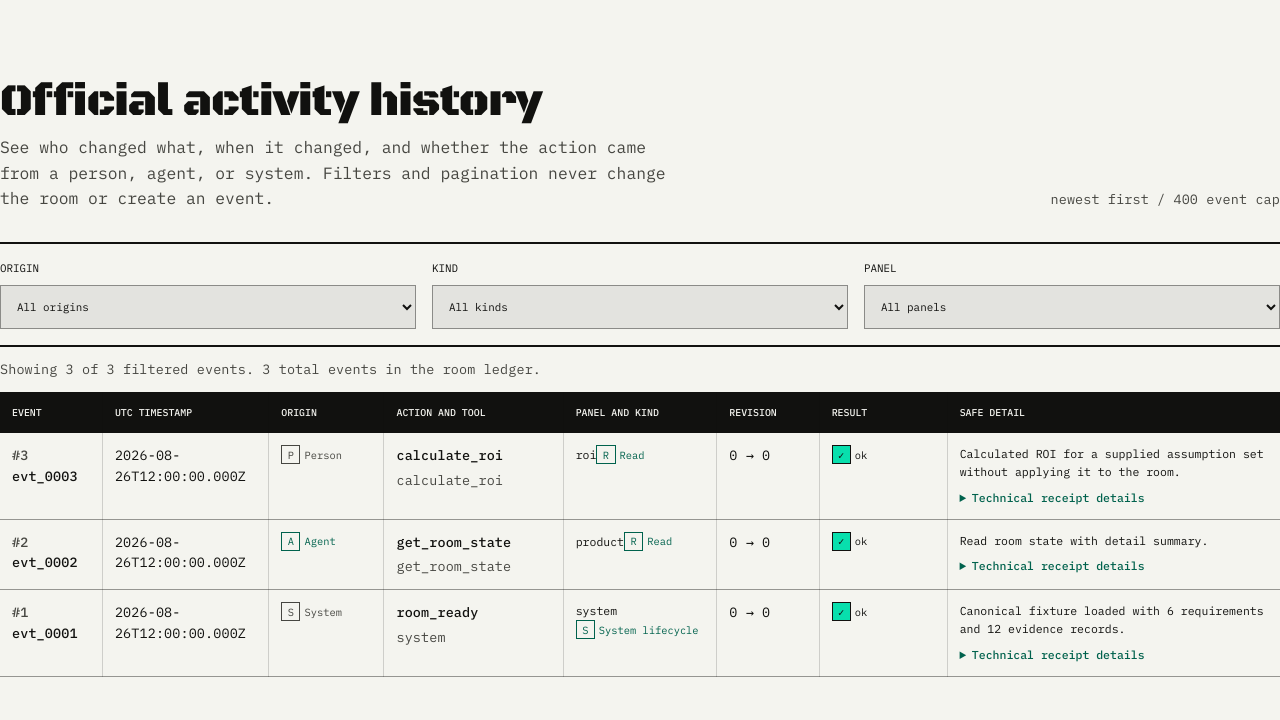
Scenario: activity ledger workspace › combines filters and shows an honest empty state without room mutation
Select "Person" in the dropdown labelled "Origin". click: (208, 307)
box: [0, 285, 416, 329]
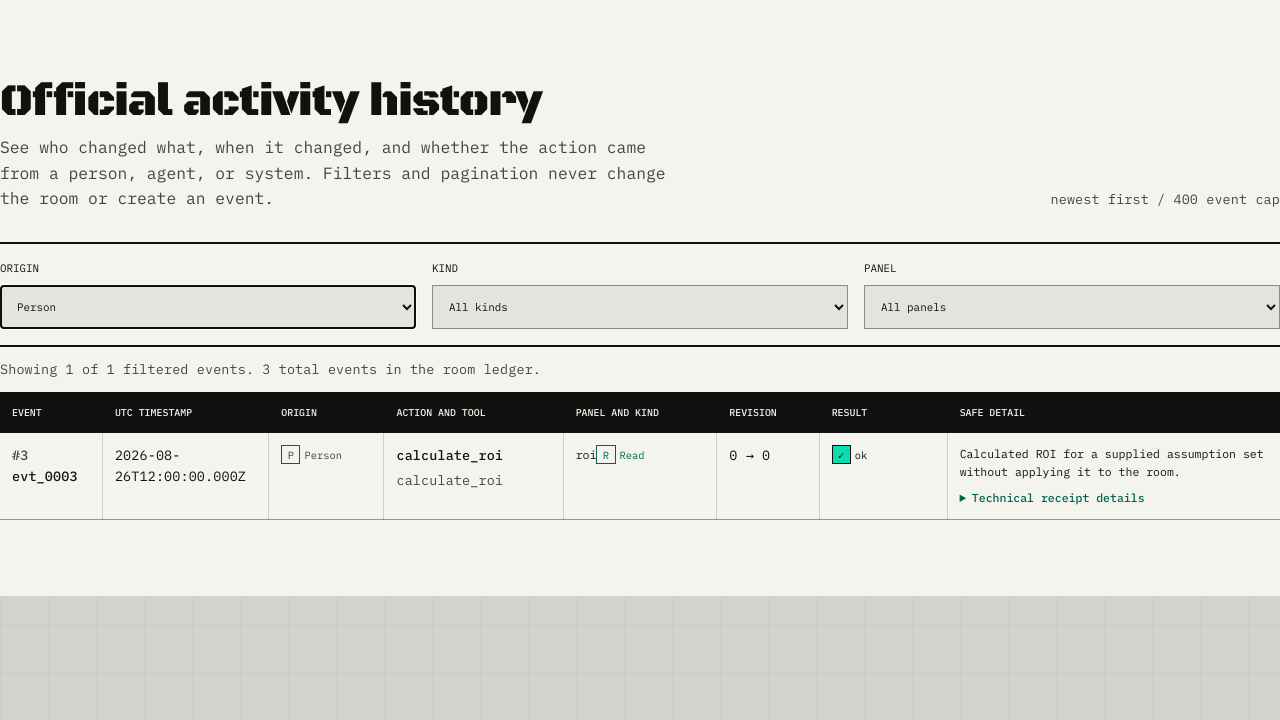
Select "Reads" in the dropdown labelled "Kind". click: (640, 307)
box: [432, 285, 848, 329]
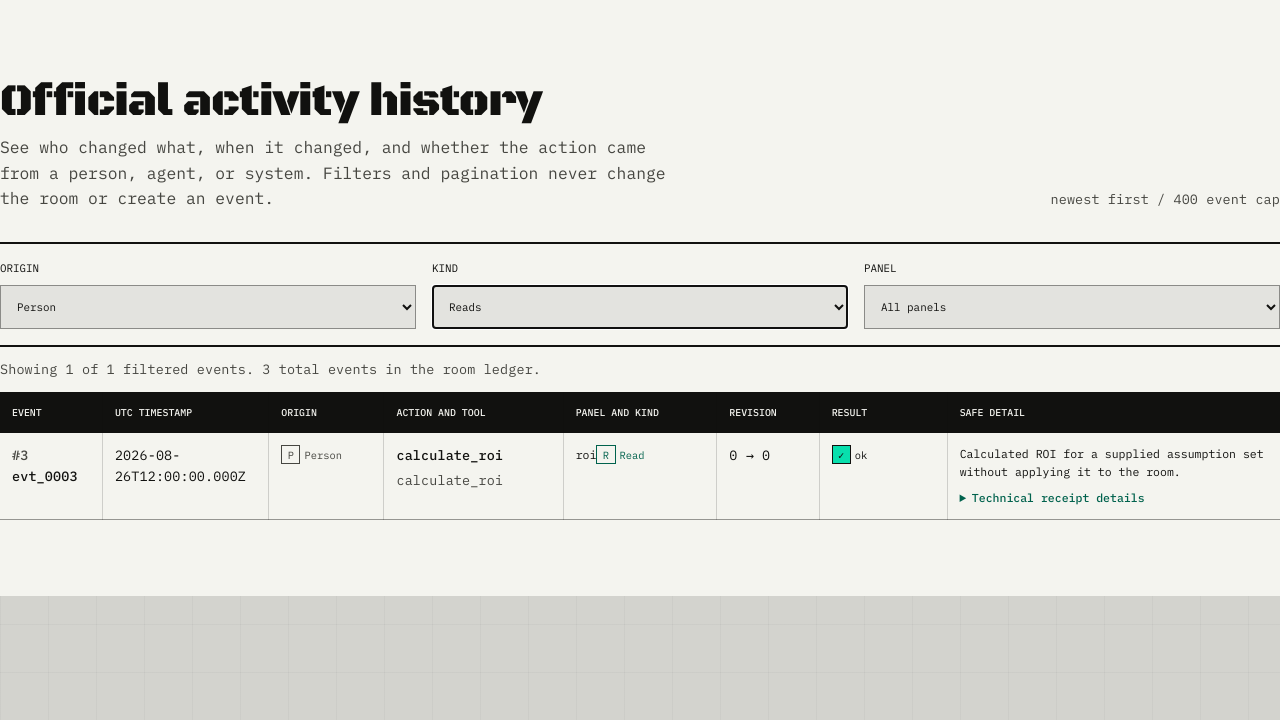
Select "roi" in the dropdown labelled "Panel". click: (1072, 307)
box: [864, 285, 1279, 329]
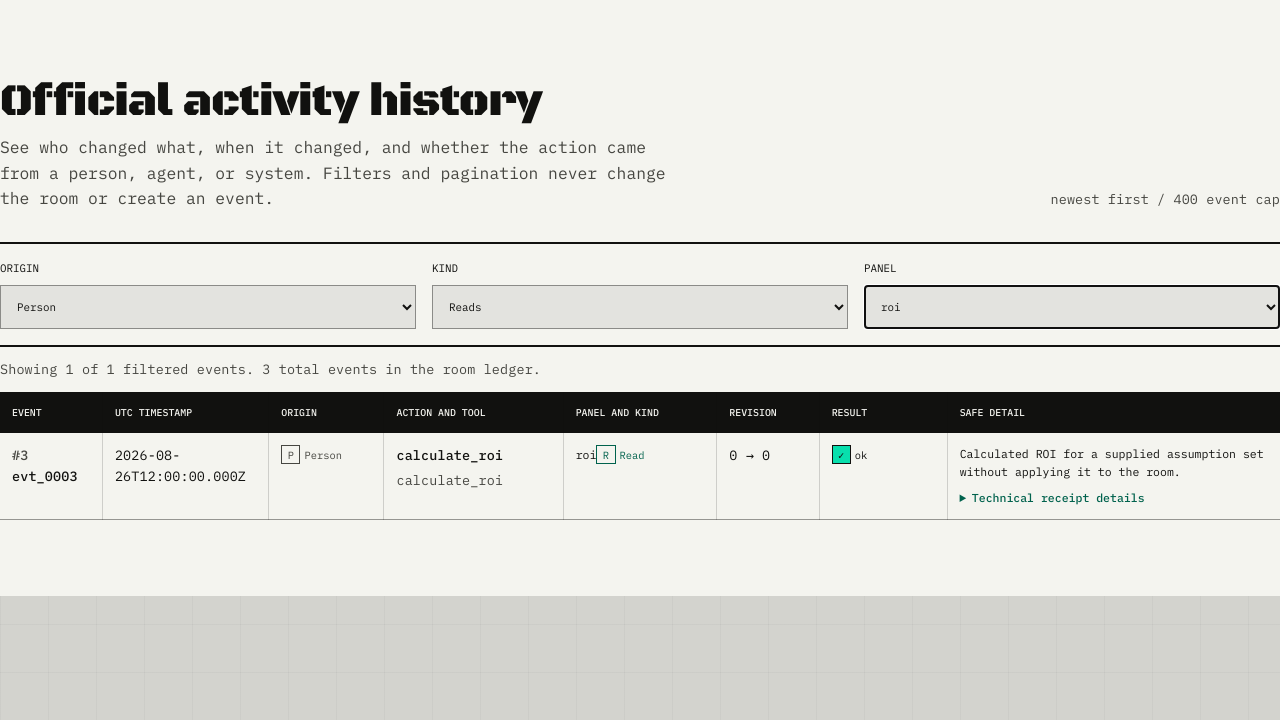
Check: the text "get_room_state" is not shown
Check: the text "Showing 1 of 1 filtered events" is shown, box [0, 360, 541, 378]
Check: the text "calculate_roi" is shown 2 times, box [396, 446, 503, 464]; [396, 471, 503, 489]
Select "briefs" in the dropdown labelled "Panel". click: (1072, 307)
box: [864, 285, 1279, 329]
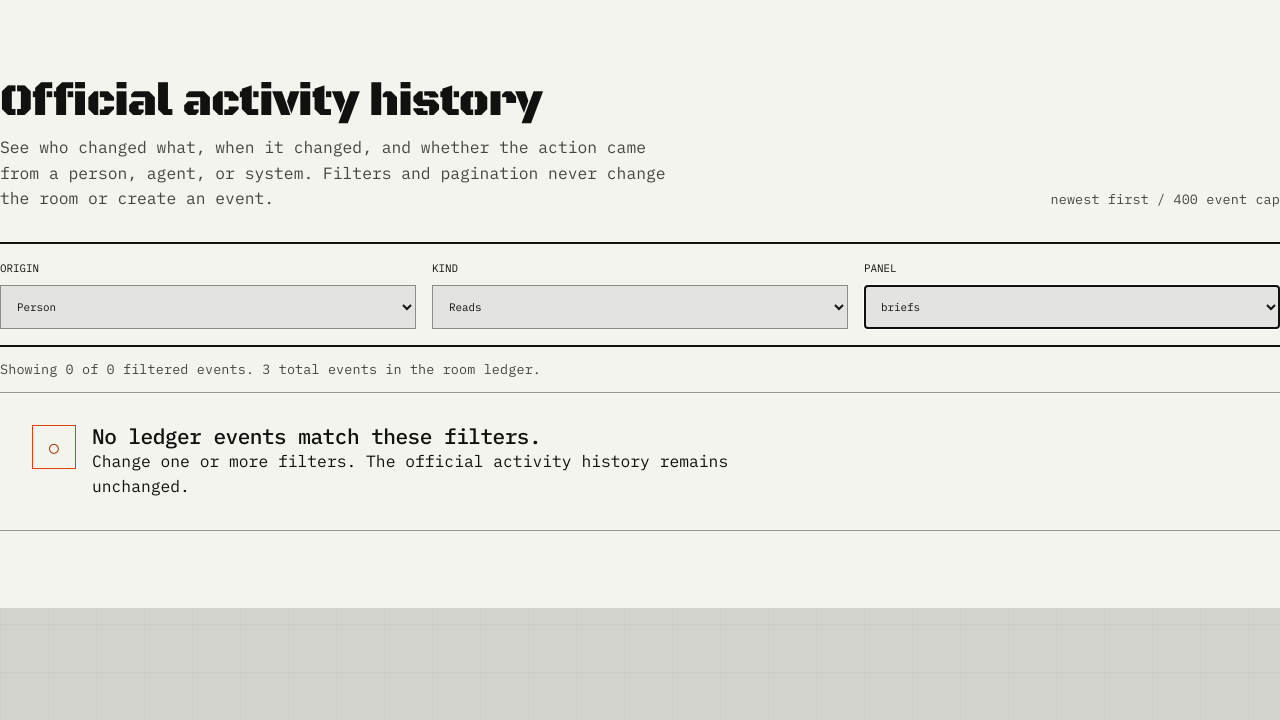
Check: the heading "No ledger events match these filters." is shown, box [92, 422, 541, 450]
Check: the text "Showing 0 of 0 filtered events" is shown, box [0, 360, 541, 378]
